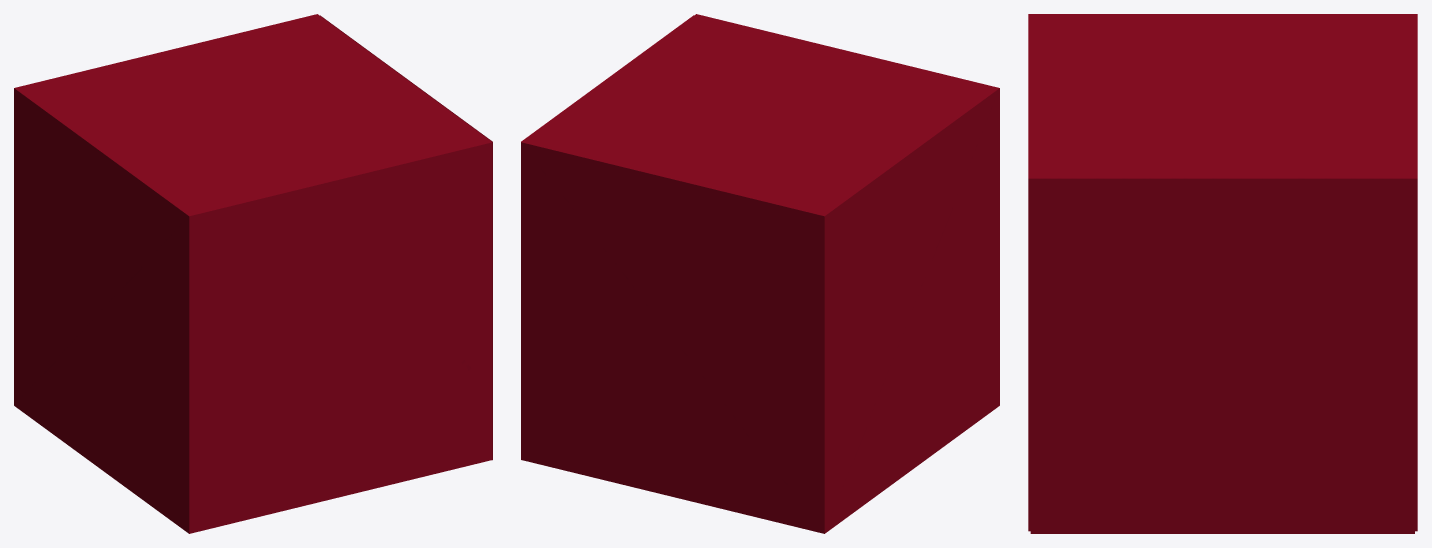
The picture shows the model from 3 angles, left to right: view 1: azimuth 30°, elevation 25°; view 2: azimuth 150°, elevation 25°; view 3: azimuth 270°, elevation 25°; orthographic projection. The views are drawn at different scales.
Visible parts, largest first — view 1: node_id4; view 2: node_id4; view 3: node_id6, node_id4.
Part boxes in pixels (left/top/right/bottom): node_id4: left=14, top=14, right=492, bottom=533; node_id4: left=521, top=14, right=999, bottom=533; node_id6: left=1030, top=180, right=1414, bottom=533; node_id4: left=1028, top=14, right=1417, bottom=531.
Size of the model in its own units: 0.5114 by 0.512 by 0.5093.
Materials: 2 (2 with a texture image).
